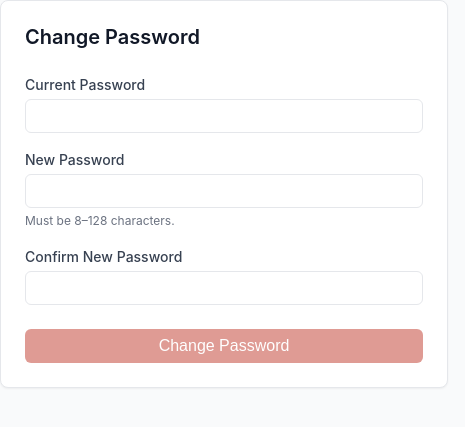
Test: PasswordChangeForm › shows mismatch error when confirm password does not match
Type "validpassword123" into the password field with id "new-password" at (224, 191), box [25, 174, 423, 208]
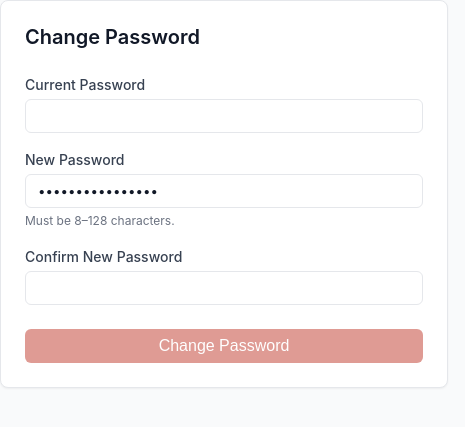
Type "differentpassword" into the password field with id "confirm-password" at (224, 288), box [25, 271, 423, 305]
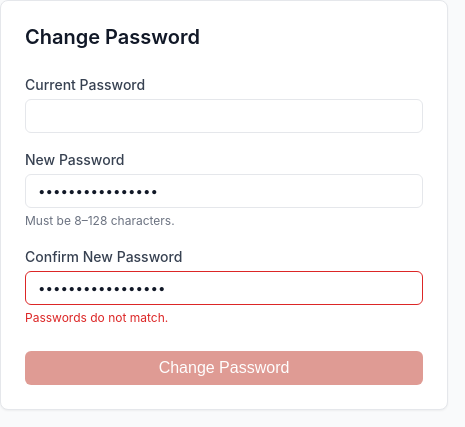
Expected: the text "Passwords do not match." is shown, [25, 310, 168, 325]
